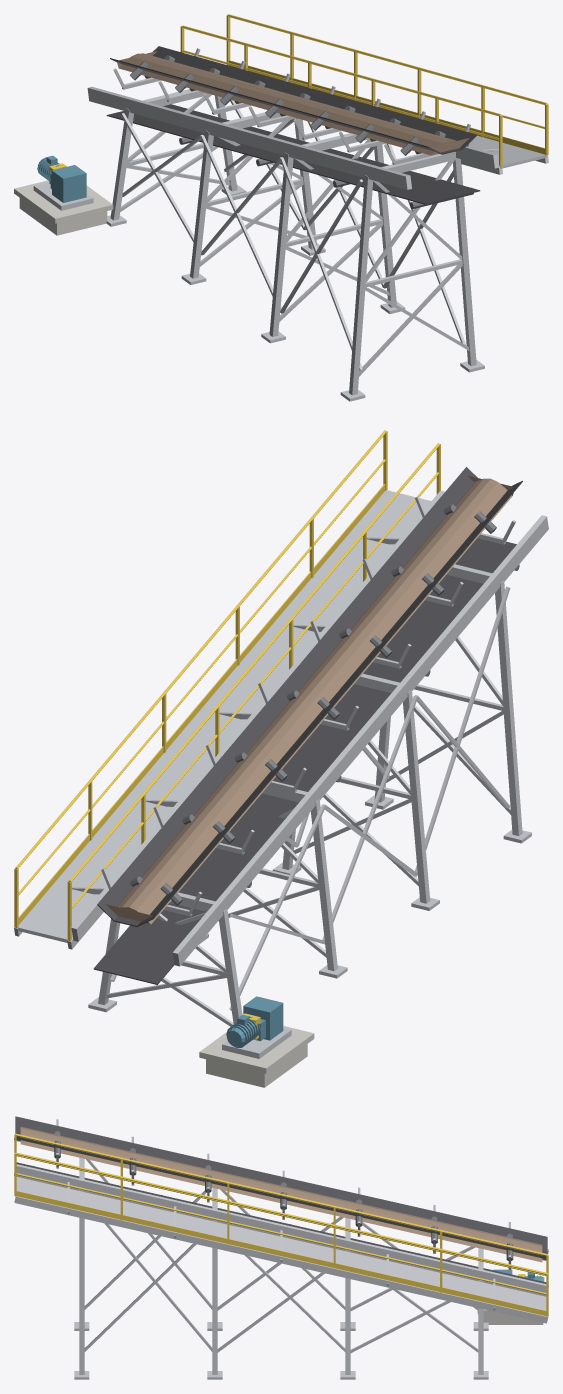
File: ore-processing-and-haulage-plant-conveyor-incline-12m-fd4ba7d1.glb
3 renders of one model, top to bottom at view 1: azimuth 30°, elevation 25°; view 2: azimuth 150°, elevation 25°; view 3: azimuth 270°, elevation 25°, orthographic. The views are drawn at different scales.
Visible parts, largest first — view 1: conveyor-incline-12m; view 2: conveyor-incline-12m; view 3: conveyor-incline-12m.
Boxes of the visible parts, x1=… form: conveyor-incline-12m: x1=14, y1=14, x2=548, y2=401; conveyor-incline-12m: x1=14, y1=430, x2=548, y2=1087; conveyor-incline-12m: x1=14, y1=1116, x2=548, y2=1379.
Bounding box in the file's own units: 4.73 × 5.92 × 12.06.
